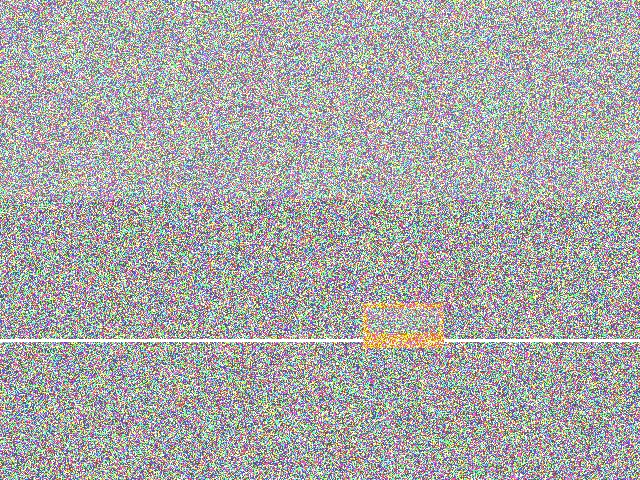car: (284, 390, 440, 455), (408, 312, 545, 369)
truck: (16, 248, 162, 319)
